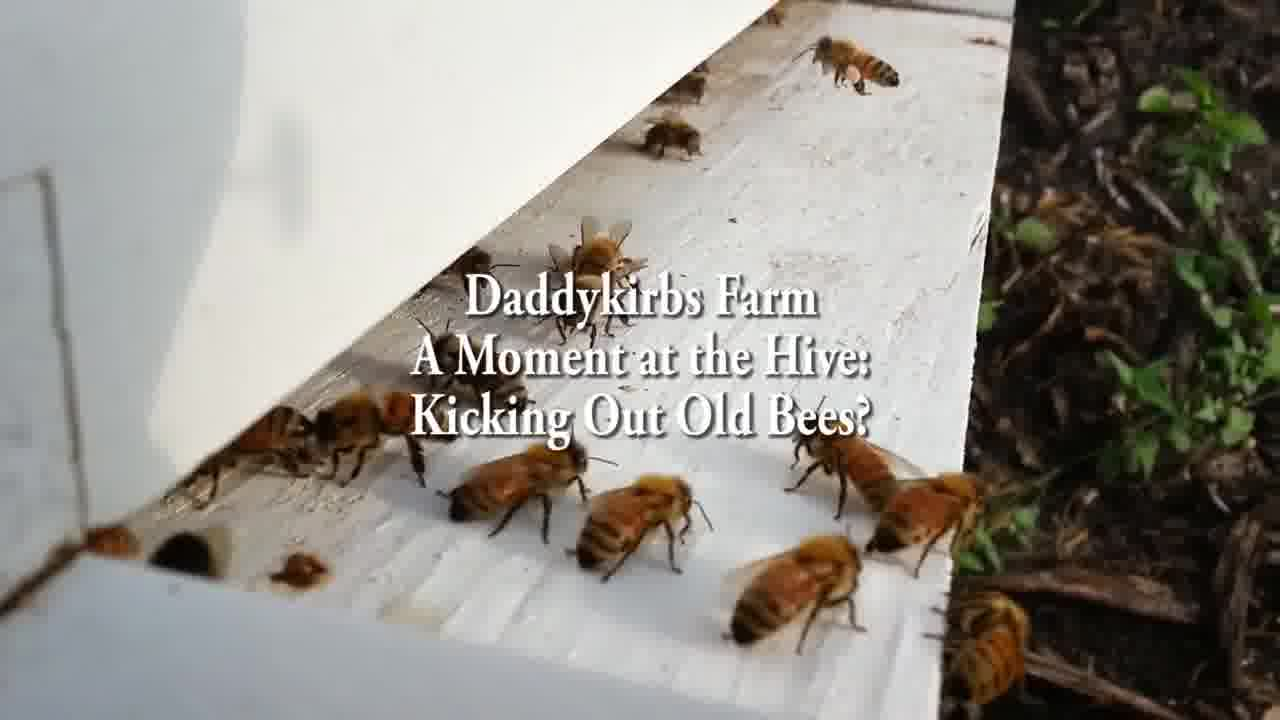pollen: (799, 31, 899, 107)
